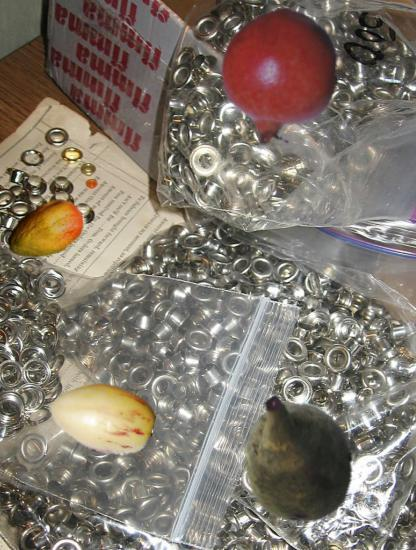Beetroot: (230, 389, 366, 525)
Papaya: (4, 189, 86, 271)
Pepino: (48, 363, 156, 471)
Pomegranate: (208, 5, 350, 147)
